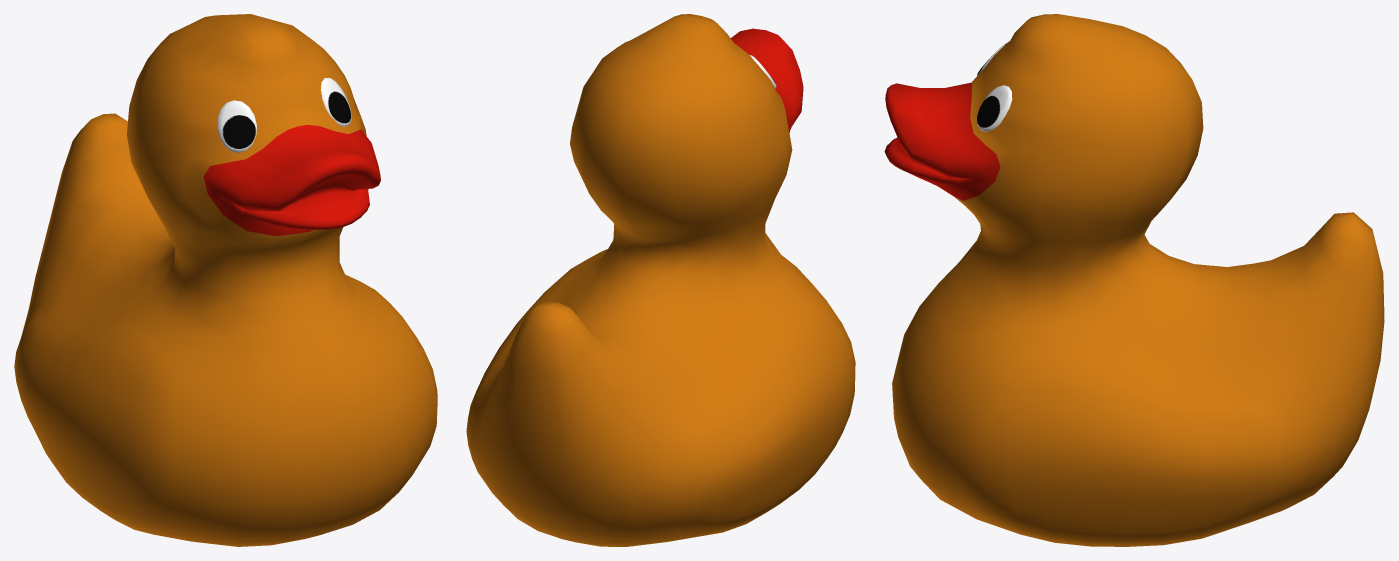
The model's file is rubber-duck.glb.
3 views of the same model, side by side, from view 1: azimuth 30°, elevation 25°; view 2: azimuth 150°, elevation 25°; view 3: azimuth 270°, elevation 25° (orthographic). The views are drawn at different scales.
Visible parts, largest first — view 1: Rubber Duck, Rubber Duck Eyes; view 2: Rubber Duck; view 3: Rubber Duck, Rubber Duck Eyes.
Part boxes in pixels (bbox=[...]): Rubber Duck: bbox=[14, 14, 437, 546]; Rubber Duck Eyes: bbox=[217, 77, 351, 152]; Rubber Duck: bbox=[466, 14, 855, 546]; Rubber Duck: bbox=[884, 14, 1384, 546]; Rubber Duck Eyes: bbox=[977, 44, 1012, 131].
Size of the model in its own units: 0.6895 by 0.9997 by 0.9438.
3 materials, 1 textured.
